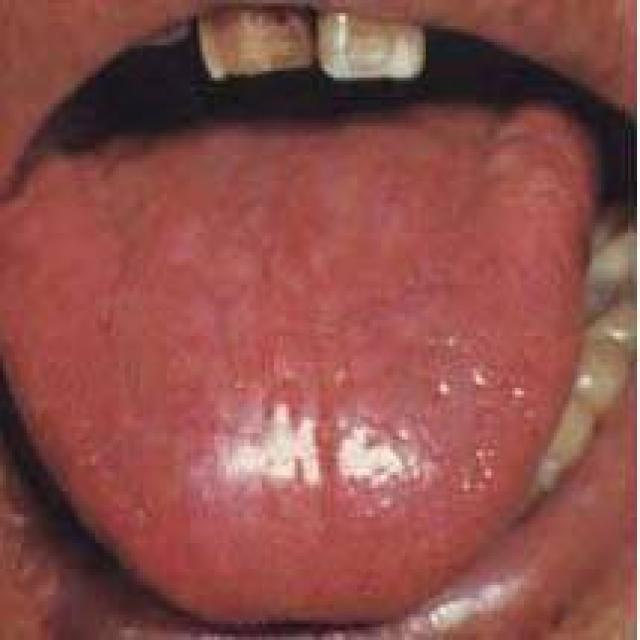tongue: (0, 131, 587, 581)
